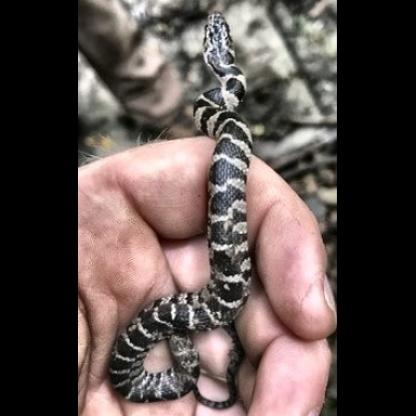Snake: (103, 3, 328, 416), (162, 2, 266, 154)
